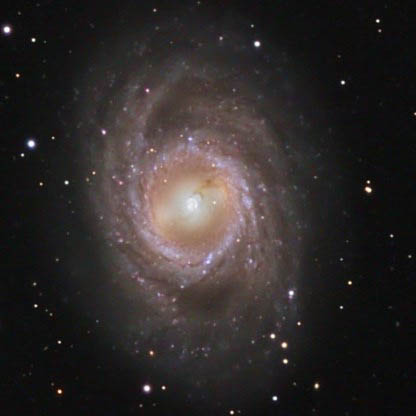Messier 95: (52, 20, 314, 399)
